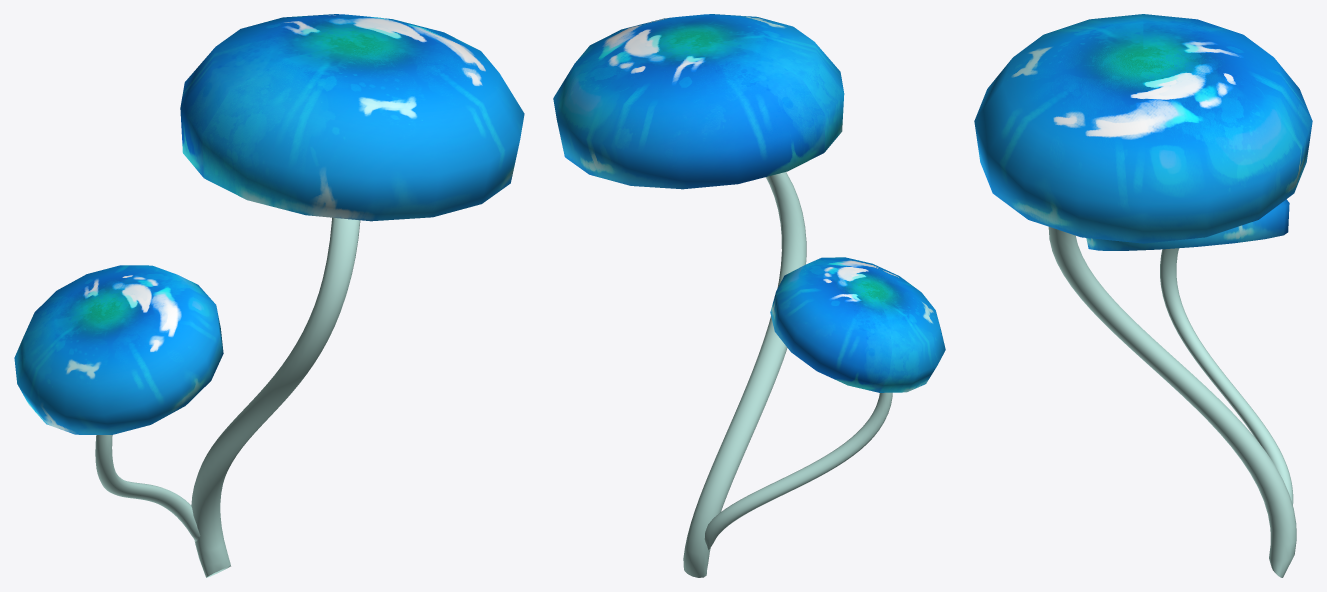
File: Mushroom1.fbx
The picture shows the model from 3 angles, left to right: view 1: azimuth 30°, elevation 25°; view 2: azimuth 150°, elevation 25°; view 3: azimuth 270°, elevation 25°; orthographic projection. The views are drawn at different scales.
Visible parts, largest first — view 1: Head, Head.001, Steel, Steel.001; view 2: Head, Head.001, Steel, Steel.001; view 3: Head, Steel, Steel.001, Head.001.
Boxes of the visible parts, x1=… form: Head: x1=180, y1=14, x2=524, y2=221; Head.001: x1=14, y1=265, x2=223, y2=434; Steel: x1=191, y1=217, x2=360, y2=577; Steel.001: x1=95, y1=435, x2=200, y2=541; Head: x1=553, y1=14, x2=844, y2=189; Head.001: x1=770, y1=257, x2=945, y2=392; Steel: x1=683, y1=172, x2=806, y2=577; Steel.001: x1=704, y1=392, x2=892, y2=549; Head: x1=974, y1=14, x2=1312, y2=243; Steel: x1=1048, y1=227, x2=1296, y2=577; Steel.001: x1=1160, y1=248, x2=1293, y2=504; Head.001: x1=1086, y1=199, x2=1289, y2=250.
Size of the model in its own units: 167 by 202 by 112.
Materials: 4 (2 with a texture image).
